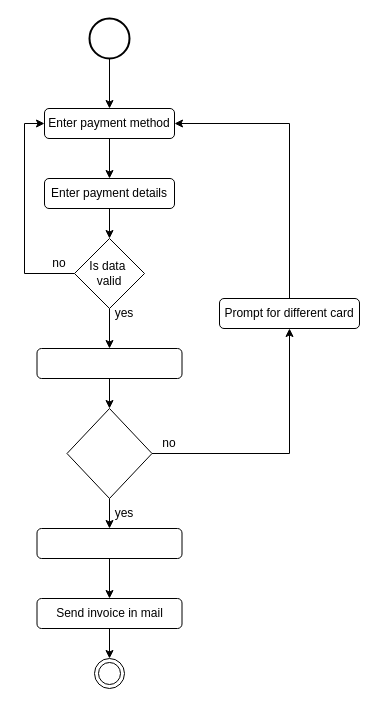
This 377x706 diagram has some shape labels left out. The shapes that lost their labels are listed below. From the top down, each one's box as (x1, y1, x2, y2) in pixels, then its label:
(36, 348, 182, 378): Send request to gateway
(66, 408, 152, 498): Sufficient funds
(36, 528, 182, 558): Display success
